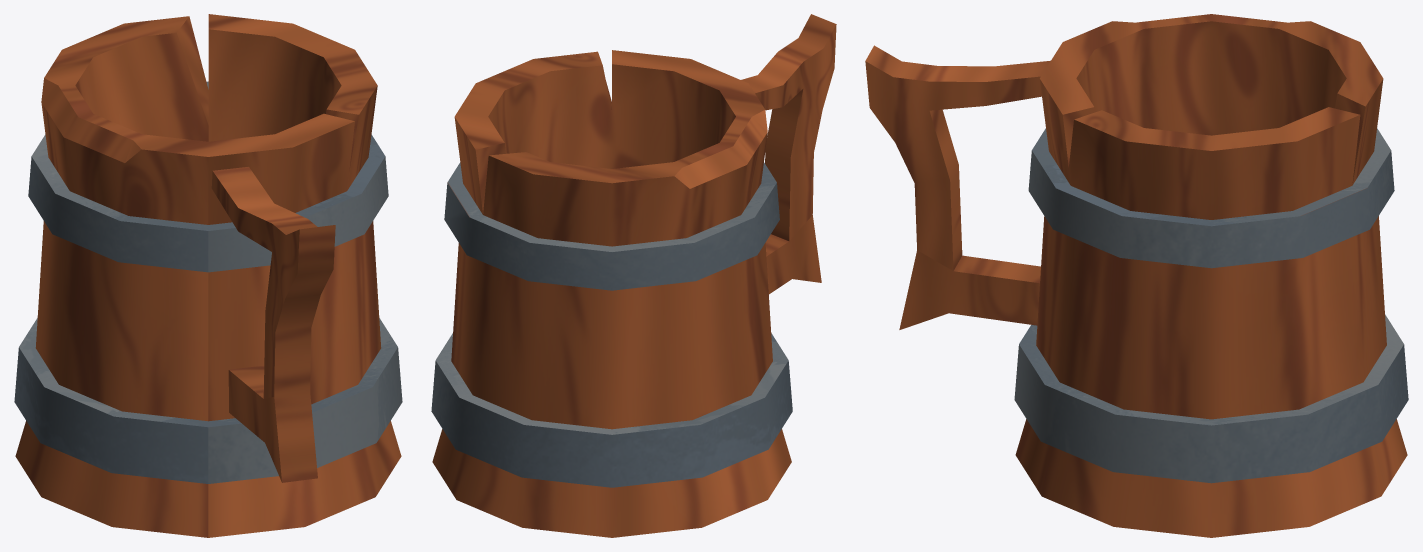
File: SM_BeerMug.fbx
3 renders of one model, left to right at view 1: azimuth 30°, elevation 25°; view 2: azimuth 150°, elevation 25°; view 3: azimuth 270°, elevation 25°, orthographic. The views are drawn at different scales.
Visible parts, largest first — view 1: SM_Beer_Mug; view 2: SM_Beer_Mug; view 3: SM_Beer_Mug.
Part boxes in pixels (box(x1,y1,x2,y2)): SM_Beer_Mug: box(14, 14, 402, 537); SM_Beer_Mug: box(431, 14, 836, 537); SM_Beer_Mug: box(865, 14, 1408, 537).
Size of the model in its own units: 18.61 by 19.62 by 25.65.
